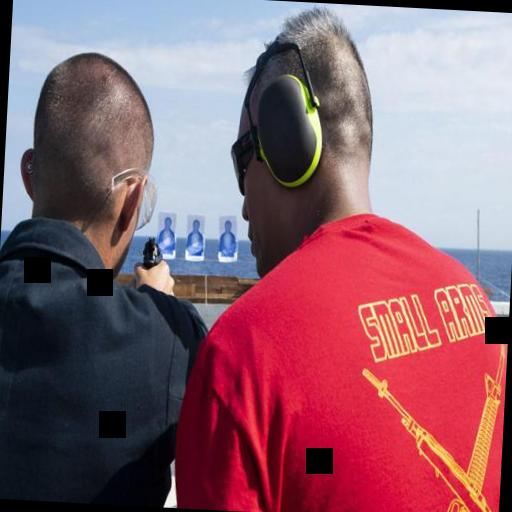Handgun: (138, 234, 164, 268)
